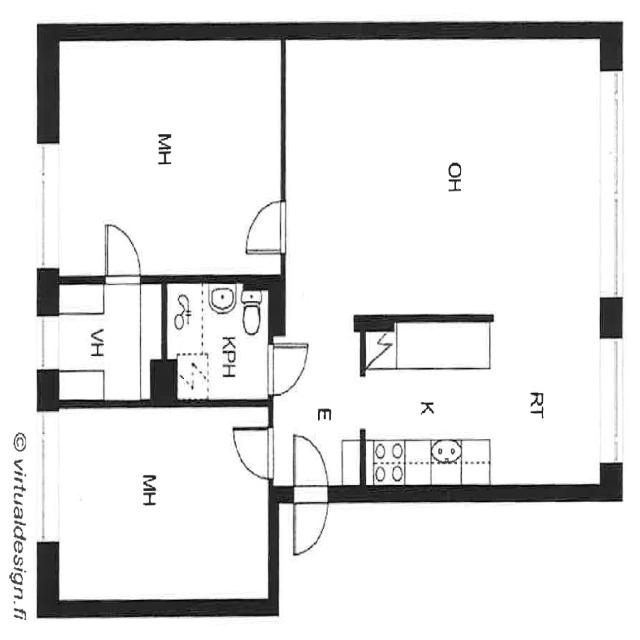door: (285, 427, 333, 559), (237, 189, 290, 260), (95, 219, 148, 289), (226, 416, 278, 481), (260, 335, 314, 397)
window: (588, 49, 628, 318), (29, 399, 66, 561), (31, 132, 64, 280), (594, 331, 628, 473), (34, 309, 61, 378)
zone: (290, 39, 585, 318), (58, 35, 284, 279), (53, 399, 271, 610), (363, 320, 608, 490), (50, 280, 163, 404), (165, 277, 272, 403)
